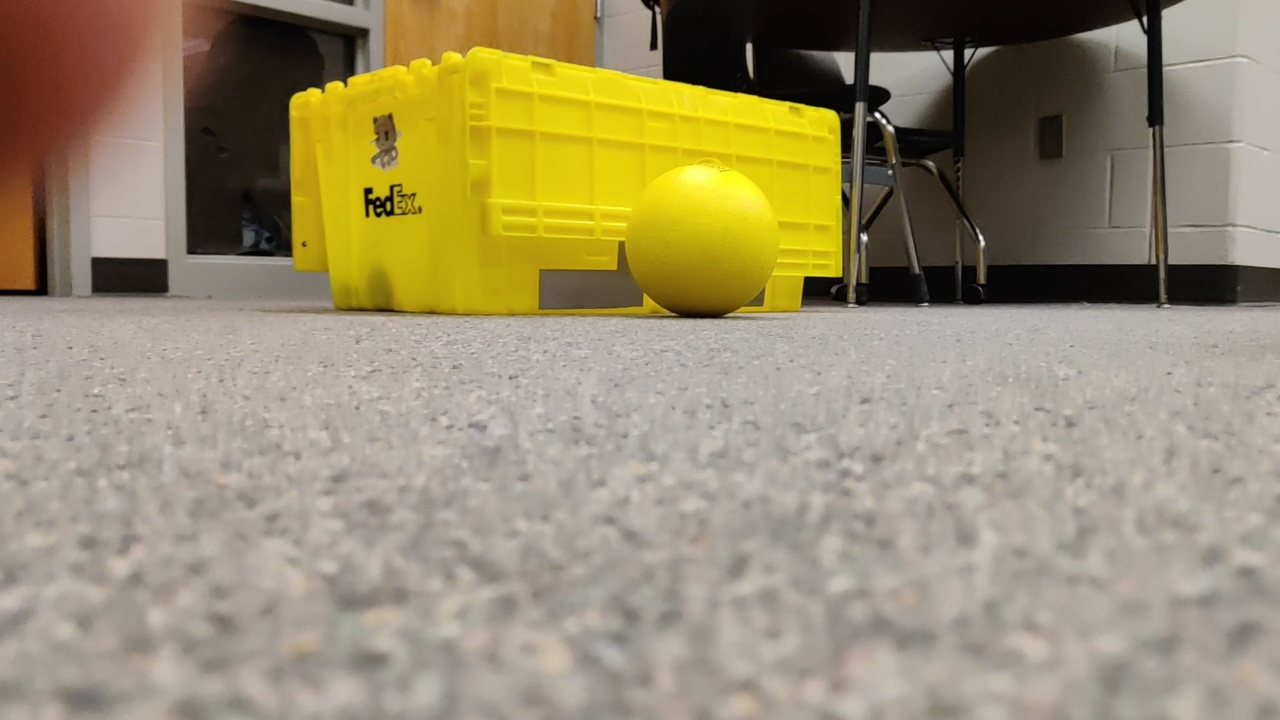Ball: (615, 159, 782, 322)
